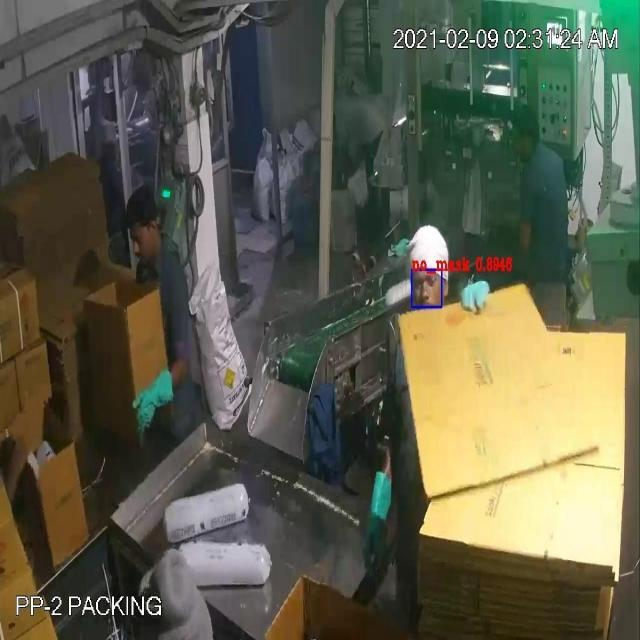No_Gloves: (21, 96, 371, 518)
